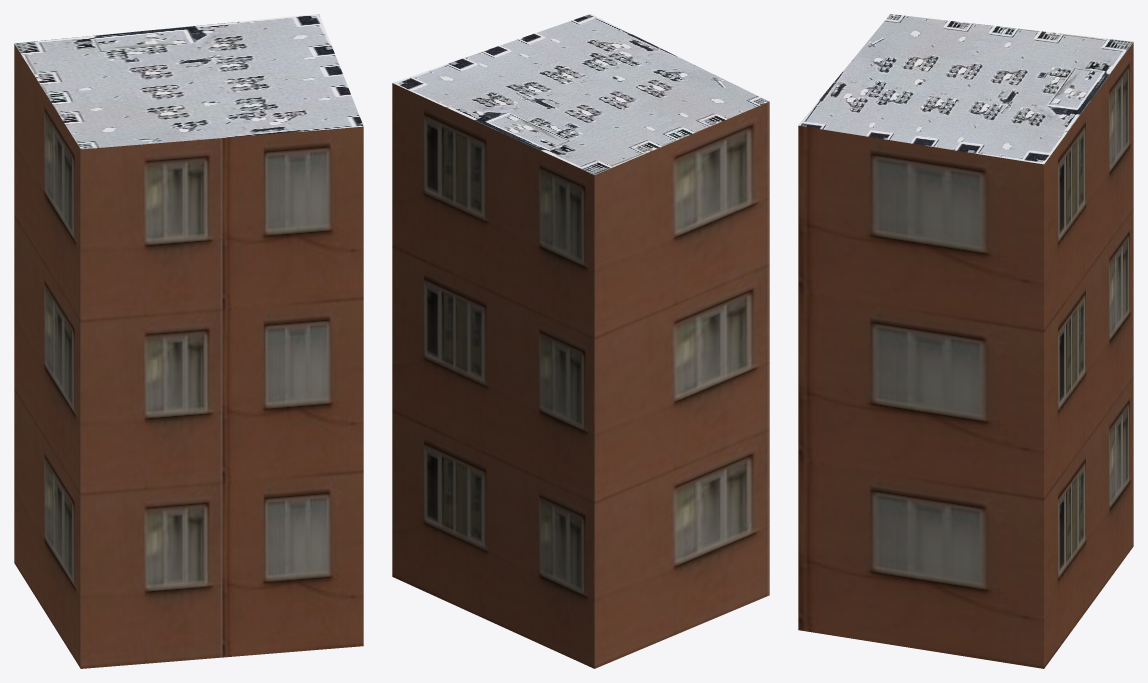
Rendered from ResTex__879.fbx.
3 renders of one model, left to right at view 1: azimuth 30°, elevation 25°; view 2: azimuth 150°, elevation 25°; view 3: azimuth 270°, elevation 25°, orthographic. The views are drawn at different scales.
Visible parts, largest first — view 1: CityEngineMaterial_20_m, CityEngineMaterial_4_m; view 2: CityEngineMaterial_20_m, CityEngineMaterial_4_m; view 3: CityEngineMaterial_20_m, CityEngineMaterial_4_m.
Part boxes in pixels (bbox=[...]): CityEngineMaterial_20_m: bbox=[14, 44, 363, 668]; CityEngineMaterial_4_m: bbox=[14, 14, 363, 149]; CityEngineMaterial_20_m: bbox=[392, 83, 769, 668]; CityEngineMaterial_4_m: bbox=[393, 14, 768, 174]; CityEngineMaterial_20_m: bbox=[798, 42, 1133, 668]; CityEngineMaterial_4_m: bbox=[798, 14, 1133, 164].
Bounding box in the file's own units: 5.76 × 9 × 5.42.
Materials: 2 (2 with a texture image).
